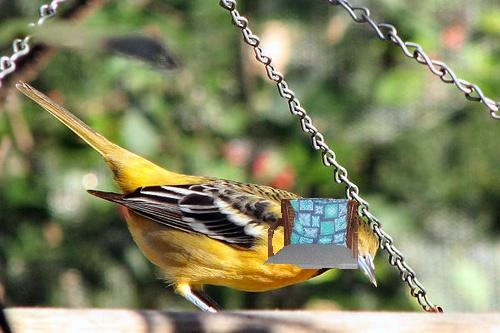tampered: (264, 199, 358, 269)
